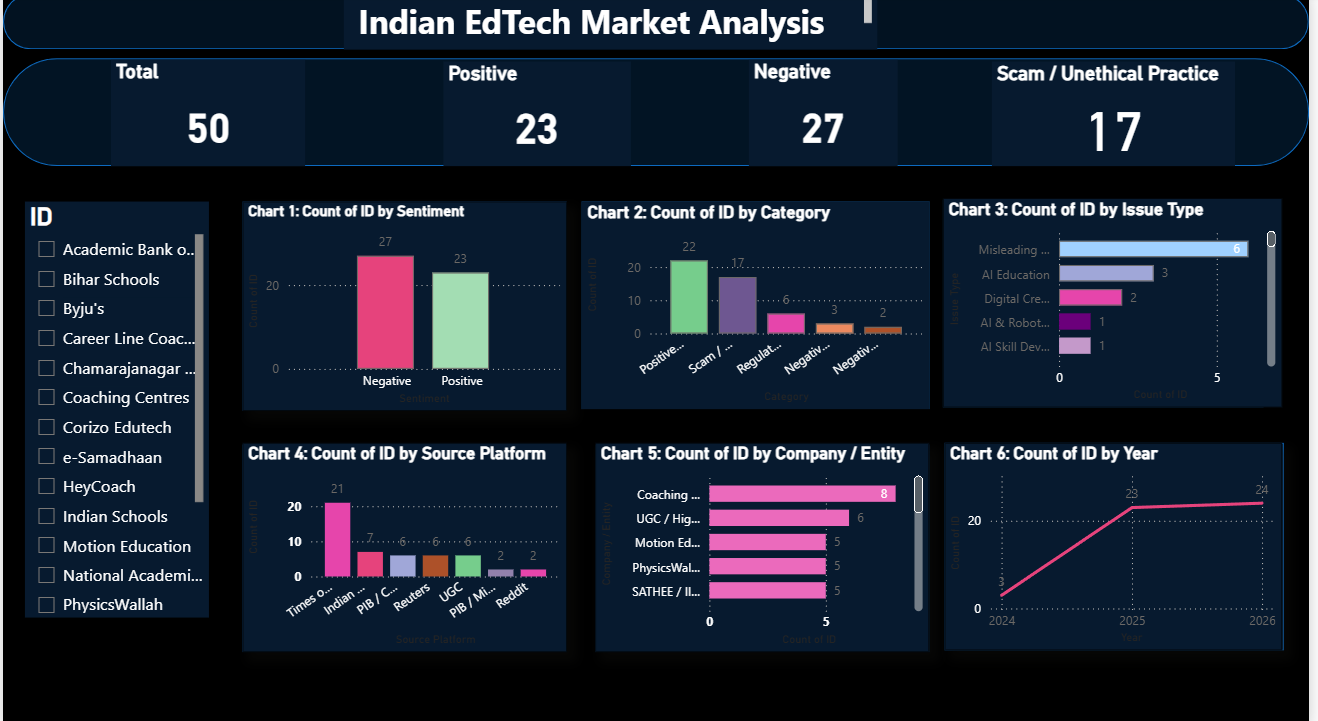

What the dashboard file says about the page in this screenshot:
{"tool":"powerbi","page":{"name":"EdTech Market Dashboard","canvas":[1280,720],"ordinal":0},"visuals":[{"type":"textbox","box":[311.5,0,682.7,57.7],"z":0},{"type":"card","title":"Total","fields":{"Values":["CountNonNull(EdTech Data.ID)"]},"box":[141.7,65,170,76.7],"z":1000},{"type":"card","title":"Positive","fields":{"Values":["CountNonNull(EdTech Data.ID)"]},"box":[416.7,65,151.7,76.7],"z":2000},{"type":"card","title":"Negative","fields":{"Values":["CountNonNull(EdTech Data.ID)"]},"box":[641.7,66.7,163.3,75],"z":3000},{"type":"card","title":"Scam / Unethical Practice","fields":{"Values":["CountNonNull(EdTech Data.ID)"]},"box":[885.4,67.2,269,74.7],"z":4000},{"type":"clusteredColumnChart","title":"Chart 1: Count of ID by Sentiment","fields":{"Category":["EdTech Data.Sentiment"],"Y":["CountNonNull(EdTech Data.ID)"]},"box":[21,217.5,331.9,211.7],"z":5000},{"type":"clusteredColumnChart","title":"Chart 2: Count of ID by Category","fields":{"Category":["EdTech Data.Category"],"Y":["CountNonNull(EdTech Data.ID)"]},"box":[394.9,215.6,410.1,213.7],"z":6000},{"type":"clusteredBarChart","title":"Chart 3: Count of ID by Issue Type","fields":{"Category":["EdTech Data.Issue Type"],"Y":["CountNonNull(EdTech Data.ID)"]},"box":[827.9,215.6,436.8,211.7],"z":7000},{"type":"clusteredColumnChart","title":"Chart 4: Count of ID by Source Platform","fields":{"Category":["EdTech Data.Source Platform"],"Y":["CountNonNull(EdTech Data.ID)"]},"box":[5.7,455.9,412,230.8],"z":8000},{"type":"barChart","title":"Chart 5: Count of ID by Company / Entity","fields":{"Category":["EdTech Data.Company / Entity"],"Y":["CountNonNull(EdTech Data.ID)"]},"box":[434.9,455.9,406.3,230.8],"z":9000},{"type":"lineChart","title":" Chart 6: Count of ID by Year","fields":{"Category":["EdTech Data.Date.Variation.Date Hierarchy.Year","EdTech Data.Date.Variation.Date Hierarchy.Quarter","EdTech Data.Date.Variation.Date Hierarchy.Month","EdTech Data.Date.Variation.Date Hierarchy.Day"],"Y":["CountNonNull(EdTech Data.ID)"]},"box":[873.7,455.9,375.8,230.8],"z":10000}]}

Visuals, with their boxes in screenshot pixels (x1, y1, x2, y2), scaled from the page's 1280x720 canvas onto the 1318x721 screenshot:
textbox: 321, 0, 1024, 58
"Total" card: 146, 65, 321, 142
"Positive" card: 429, 65, 585, 142
"Negative" card: 661, 67, 829, 142
"Scam / Unethical Practice" card: 912, 67, 1189, 142
"Chart 1: Count of ID by Sentiment" clusteredColumnChart: 22, 218, 363, 430
"Chart 2: Count of ID by Category" clusteredColumnChart: 407, 216, 829, 430
"Chart 3: Count of ID by Issue Type" clusteredBarChart: 852, 216, 1302, 428
"Chart 4: Count of ID by Source Platform" clusteredColumnChart: 6, 457, 430, 688
"Chart 5: Count of ID by Company / Entity" barChart: 448, 457, 866, 688
" Chart 6: Count of ID by Year" lineChart: 900, 457, 1287, 688
